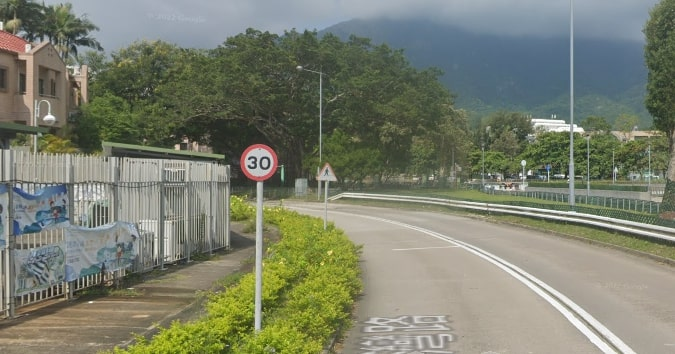Speed Limit: (237, 146, 279, 180)
